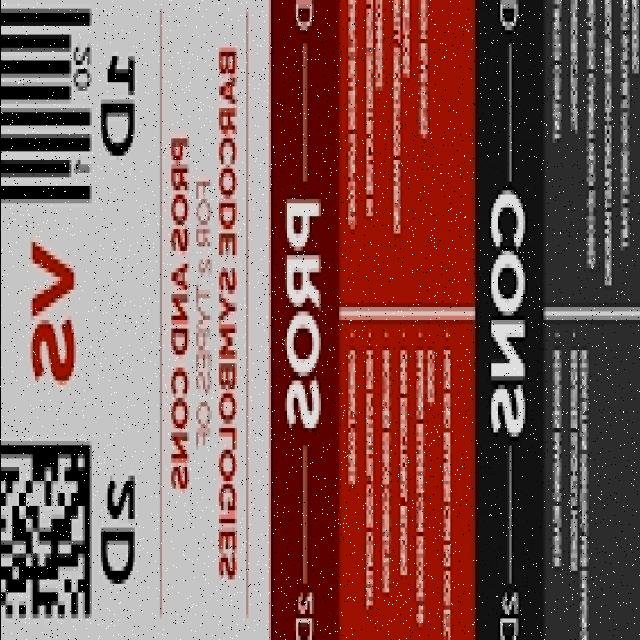datamatrix: (0, 428, 95, 631)
